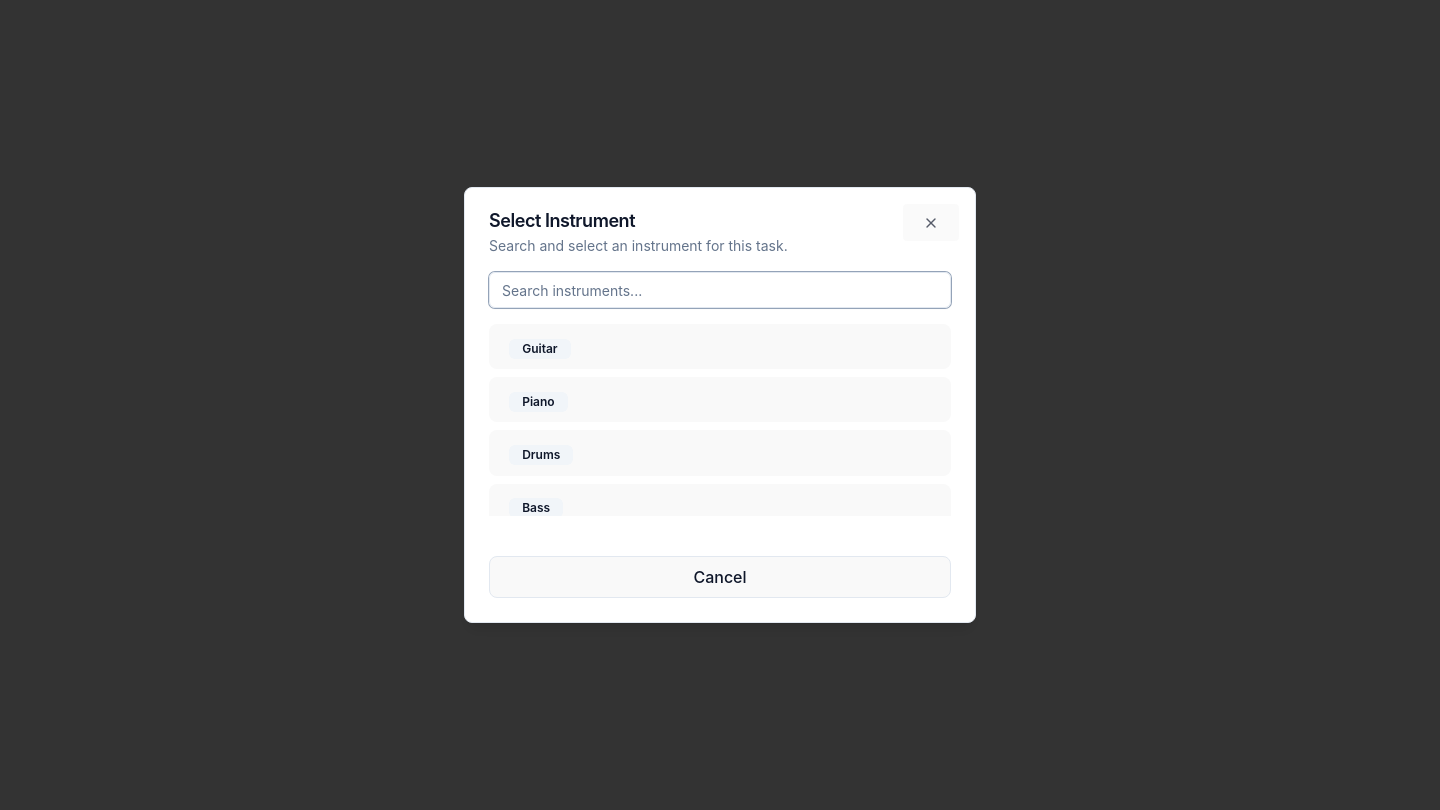
it: InstrumentModal › filters instruments based on search query
Type "guitar" into the field with placeholder "Search instruments..." at (720, 290), box [489, 272, 951, 308]
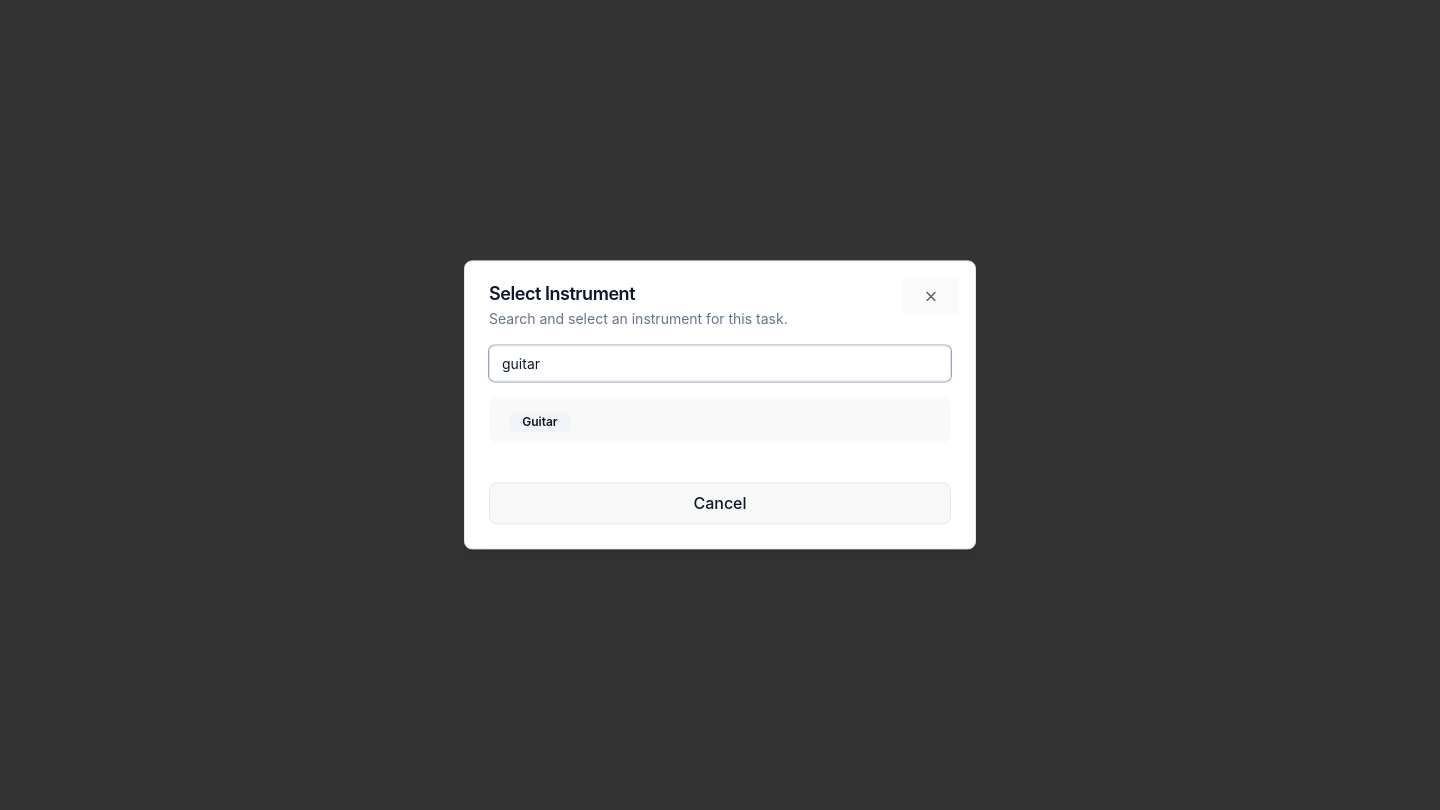
Now the button "Piano" is gone
Now the button "Drums" is gone
Now the button "Bass" is gone
